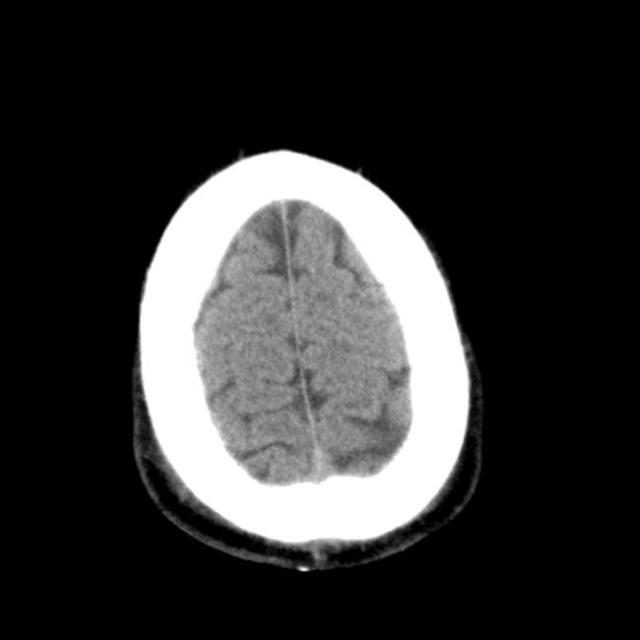lesion: (127, 142, 489, 573)
